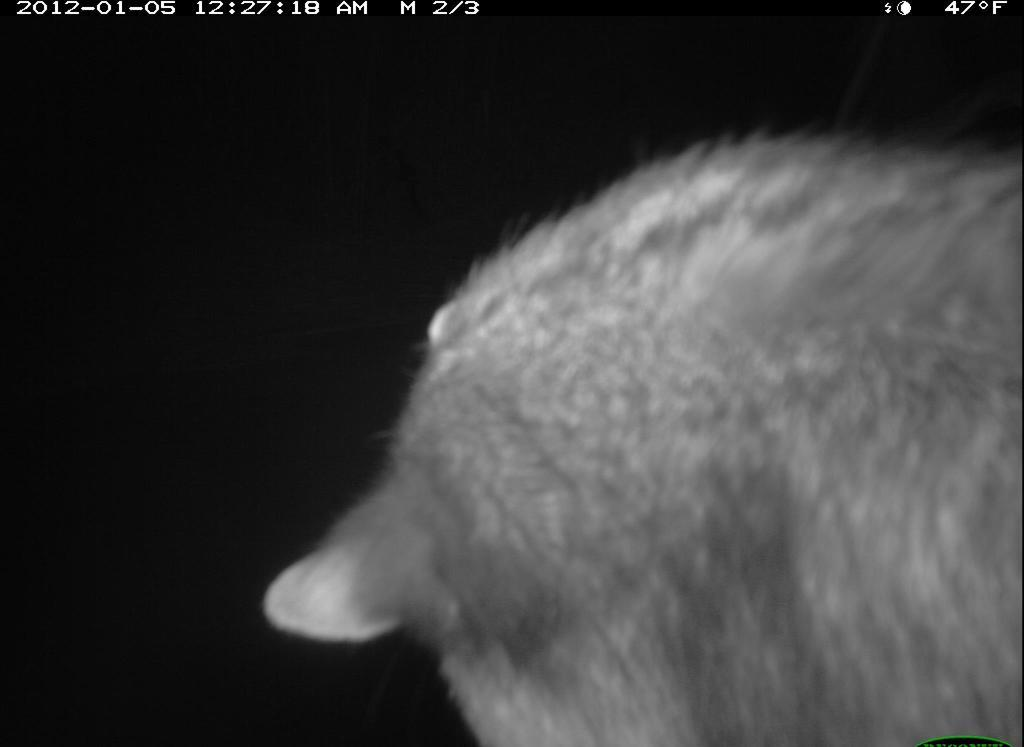raccoon: (255, 127, 1023, 747)
